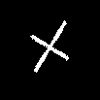single_crochet: (30, 21, 68, 71)
